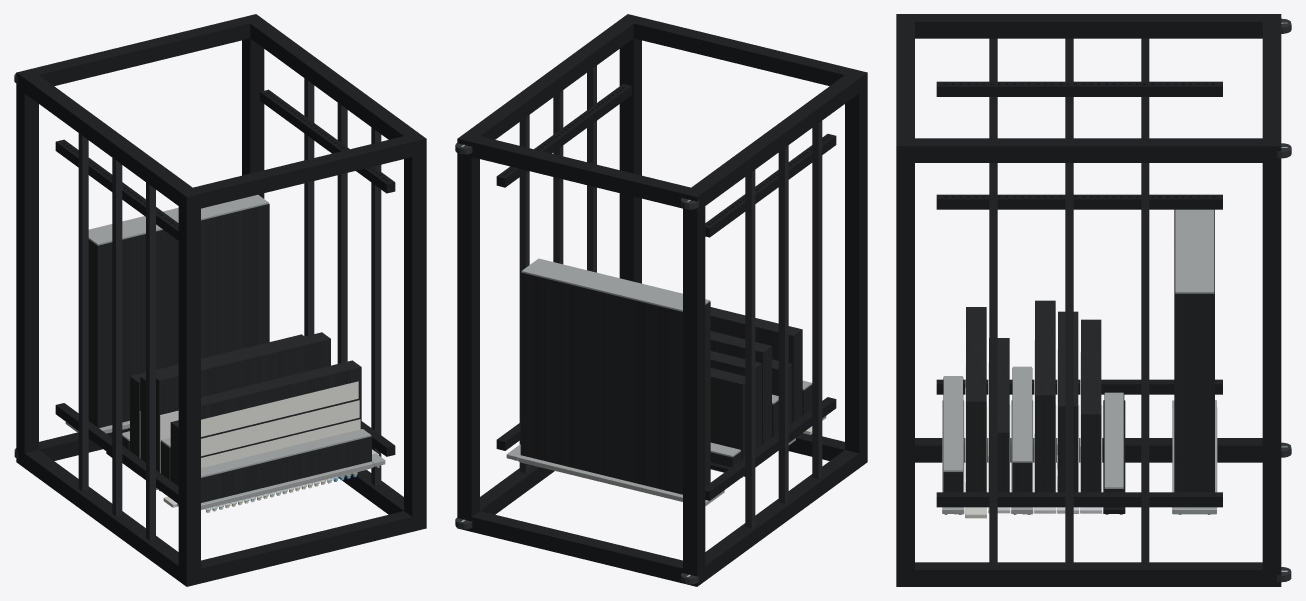
File: mikrotik-crs-12u.glb
3 views of the same model, side by side, from view 1: azimuth 30°, elevation 25°; view 2: azimuth 150°, elevation 25°; view 3: azimuth 270°, elevation 25° (orthographic). The views are drawn at different scales.
Parts seen in each view (by area): view 1: RACK_FRAME__nexus_black_dark, CRS_UPS__steel_textured, SIDE_BRACES__nexus_black, CRS354_48G__mt354_lid, CRS317_16S__steel_textured, MOUNTING_RAILS__nexus_black_dark, CRS354_48G__steel_textured, PATCH_PANEL__steel_textured, PATCH_PANEL__cisco_grey_dark, CRS_UPS__cisco_grey_dark, CRS312_4C_8XG__steel_textured, CRS326_24G_2S__steel_textured; view 2: RACK_FRAME__nexus_black_dark, CRS_UPS__steel_textured, SIDE_BRACES__nexus_black, MOUNTING_RAILS__nexus_black_dark, CRS_UPS__cisco_grey_dark, CRS312_4C_8XG__steel_textured, CRS354_48G__steel_textured, CRS317_16S__steel_textured, CRS326_24S_2Q__steel_textured, SHELF_FEET__steel_plain, CRS326_24G_2S__steel_textured; view 3: RACK_FRAME__nexus_black_dark, MOUNTING_RAILS__nexus_black_dark, SIDE_BRACES__nexus_black, CRS_UPS__steel_textured, CRS_UPS__cisco_grey_dark, CRS317_16S__steel_textured, CRS354_48G__steel_textured, CRS312_4C_8XG__steel_textured, CRS326_24S_2Q__steel_textured, CABLE_MANAGER__cisco_grey_dark, PATCH_PANEL__cisco_grey_dark, CRS326_24G_2S__steel_textured (+5 smaller).
Boxes of the visible parts, <box> form: RACK_FRAME__nexus_black_dark: <box>16,14,426,586</box>; CRS_UPS__steel_textured: <box>88,204,269,427</box>; SIDE_BRACES__nexus_black: <box>78,78,381,540</box>; CRS354_48G__mt354_lid: <box>201,381,360,468</box>; CRS317_16S__steel_textured: <box>156,332,330,472</box>; MOUNTING_RAILS__nexus_black_dark: <box>55,89,395,503</box>; CRS354_48G__steel_textured: <box>201,360,361,457</box>; PATCH_PANEL__steel_textured: <box>201,436,371,502</box>; PATCH_PANEL__cisco_grey_dark: <box>177,429,385,509</box>; CRS_UPS__cisco_grey_dark: <box>65,195,268,433</box>; CRS312_4C_8XG__steel_textured: <box>130,334,304,457</box>; CRS326_24G_2S__steel_textured: <box>170,420,178,486</box>; RACK_FRAME__nexus_black_dark: <box>457,14,867,586</box>; CRS_UPS__steel_textured: <box>520,272,710,494</box>; SIDE_BRACES__nexus_black: <box>519,65,822,528</box>; MOUNTING_RAILS__nexus_black_dark: <box>496,84,836,500</box>; CRS_UPS__cisco_grey_dark: <box>506,258,724,506</box>; CRS312_4C_8XG__steel_textured: <box>710,368,745,459</box>; CRS354_48G__steel_textured: <box>710,307,802,422</box>; CRS317_16S__steel_textured: <box>710,331,771,444</box>; CRS326_24S_2Q__steel_textured: <box>710,351,761,449</box>; SHELF_FEET__steel_plain: <box>455,143,699,584</box>; CRS326_24G_2S__steel_textured: <box>772,359,792,424</box>; RACK_FRAME__nexus_black_dark: <box>896,14,1281,586</box>; MOUNTING_RAILS__nexus_black_dark: <box>936,81,1222,507</box>; SIDE_BRACES__nexus_black: <box>989,38,1149,567</box>; CRS_UPS__steel_textured: <box>1174,209,1214,492</box>; CRS_UPS__cisco_grey_dark: <box>1172,209,1217,514</box>; CRS317_16S__steel_textured: <box>1035,300,1055,492</box>; CRS354_48G__steel_textured: <box>966,307,986,492</box>; CRS312_4C_8XG__steel_textured: <box>1081,319,1101,492</box>; CRS326_24S_2Q__steel_textured: <box>1058,311,1078,492</box>; CABLE_MANAGER__cisco_grey_dark: <box>1011,366,1033,514</box>; PATCH_PANEL__cisco_grey_dark: <box>942,376,964,514</box>; CRS326_24G_2S__steel_textured: <box>989,338,1009,492</box>.
Size of what is drawn, in the model's own units: 0.609 by 0.94 by 0.7644.
Materials: 133 (7 with a texture image).
